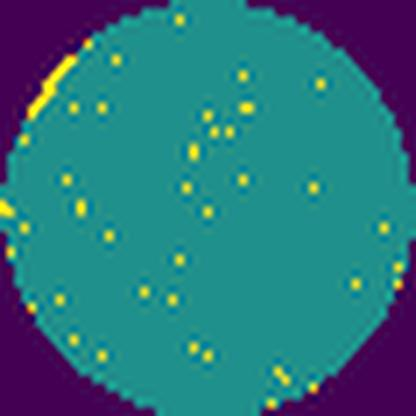Edge-Loc: (24, 49, 76, 121)
